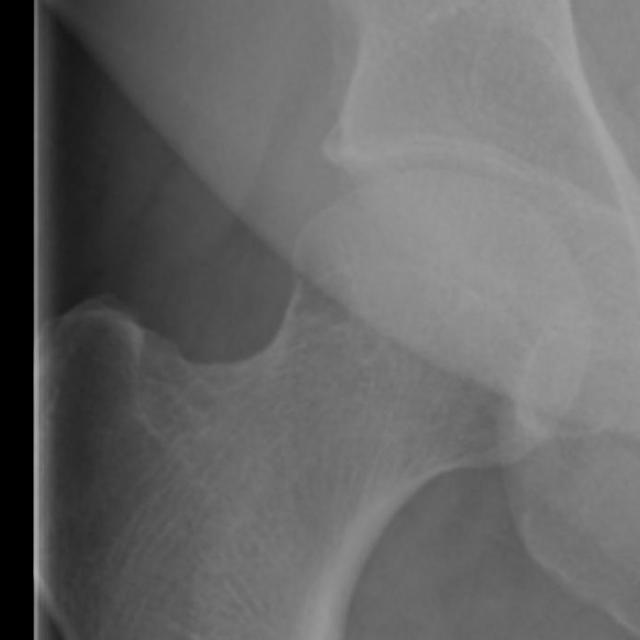Fitted_femural_head: (310, 172, 432, 310)
